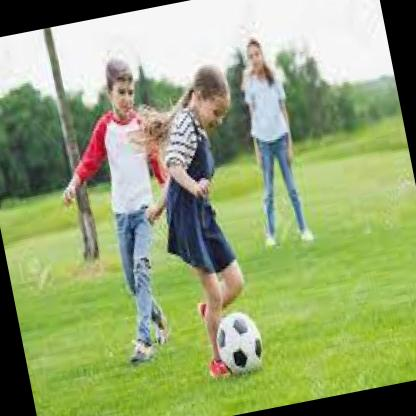ball: (213, 307, 267, 378)
